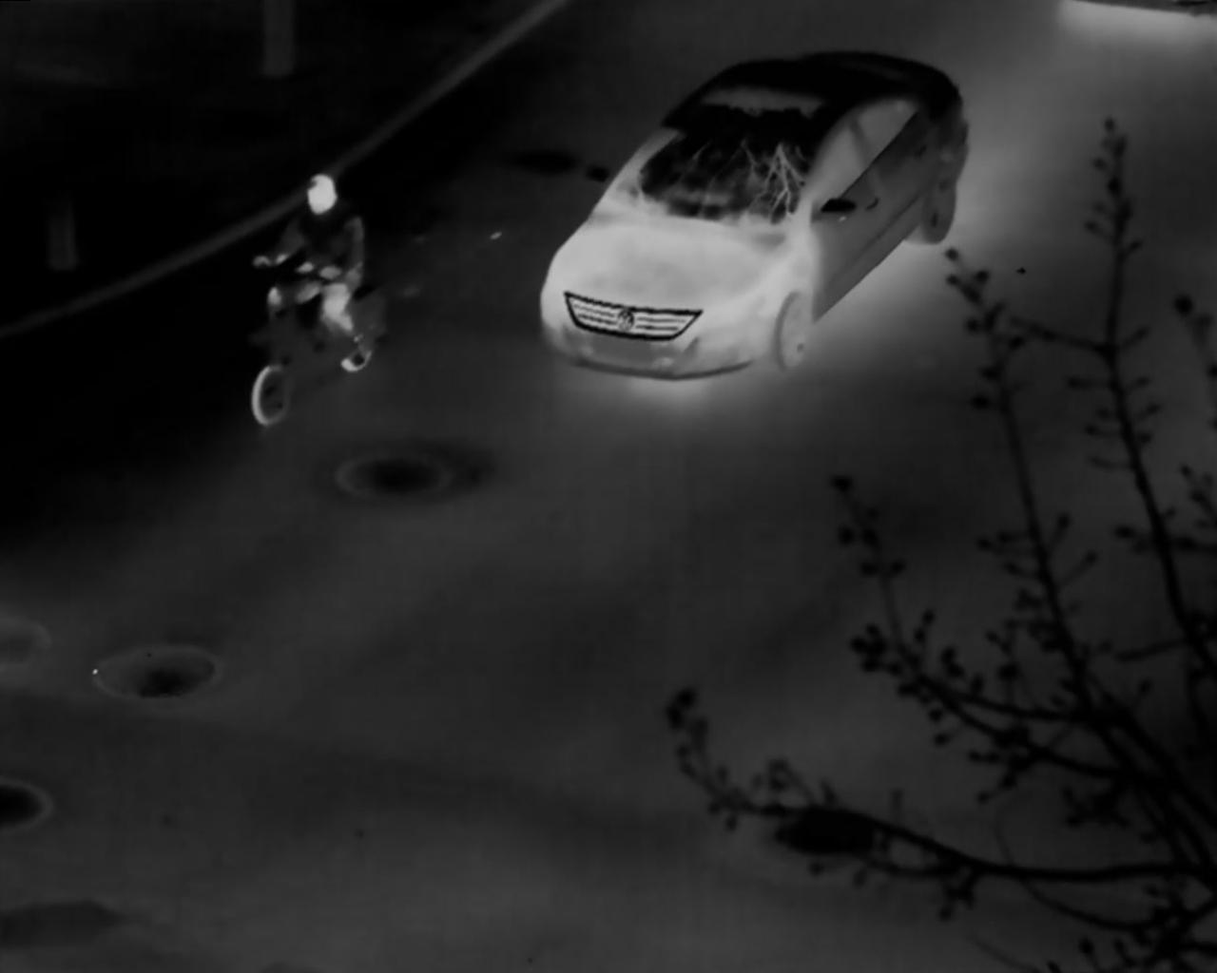person: (255, 175, 373, 375)
